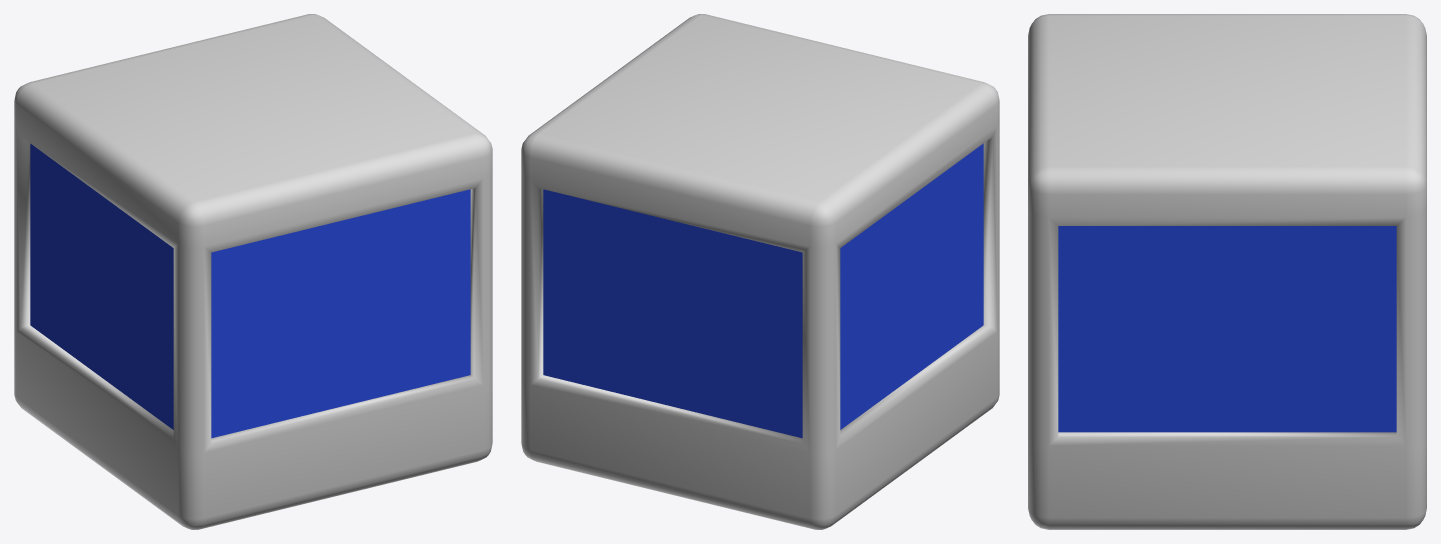
File: glass jail.fbx
3 views of the same model, side by side, from view 1: azimuth 30°, elevation 25°; view 2: azimuth 150°, elevation 25°; view 3: azimuth 270°, elevation 25° (orthographic). The views are drawn at different scales.
Visible parts, largest first — view 1: Cube, Cube.001; view 2: Cube, Cube.001; view 3: Cube, Cube.001.
Boxes of the visible parts, x1=… form: Cube: x1=14, y1=14, x2=492, y2=529; Cube.001: x1=30, y1=143, x2=470, y2=438; Cube: x1=521, y1=14, x2=999, y2=529; Cube.001: x1=543, y1=143, x2=983, y2=438; Cube: x1=1028, y1=14, x2=1426, y2=529; Cube.001: x1=1058, y1=226, x2=1396, y2=432.
Bounding box in the file's own units: 579 × 579 × 579.
